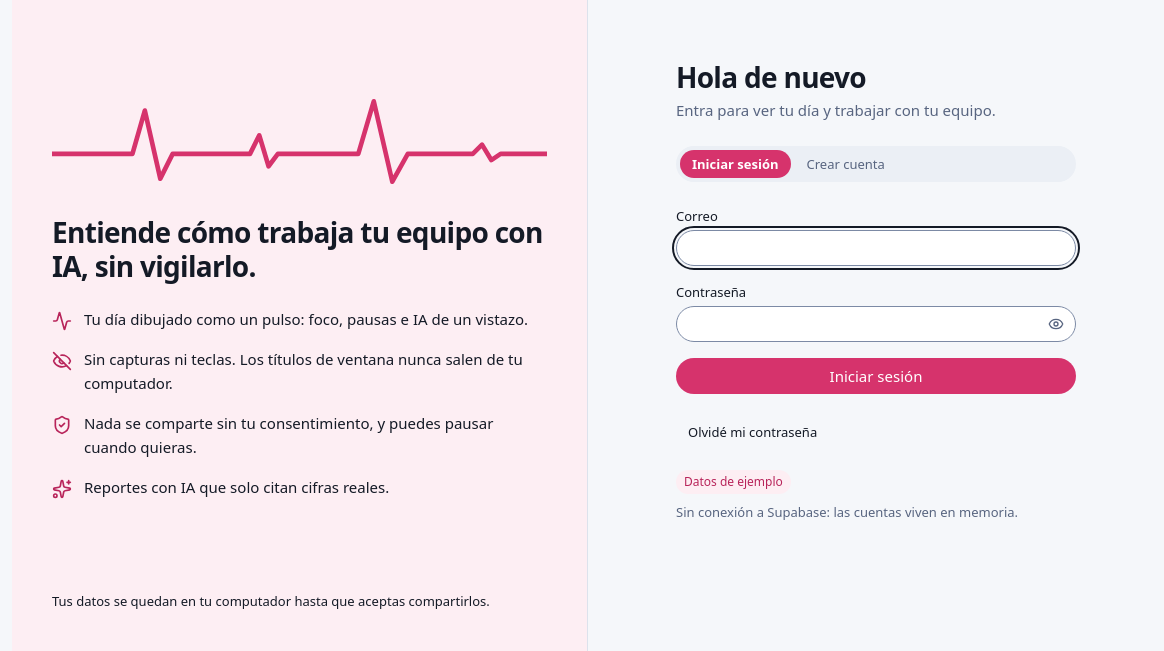
Test: Acceso (CU-01 a CU-03) › registra una cuenta y entra al instante, sin esperar un correo (AC-1, ADR-0008)
Click the radio button labelled "Crear cuenta" at x=846, y=164, box 794,150 -> 897,178
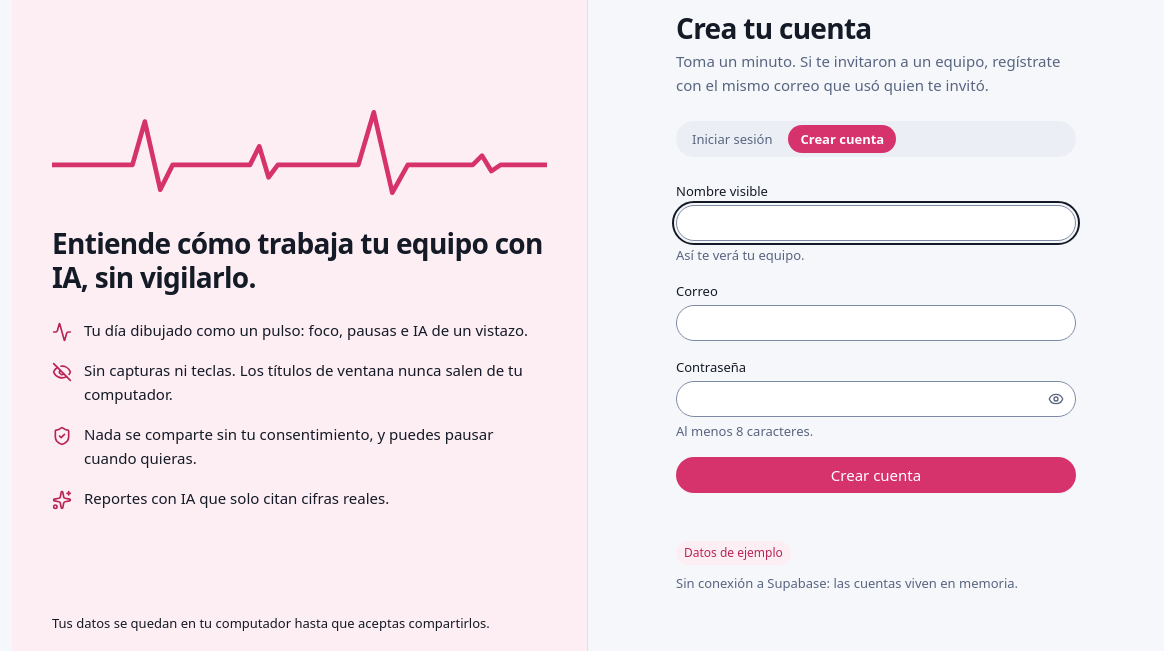
Type "Caro Díaz" into the field labelled "Nombre visible" at x=876, y=223, box 676,205 -> 1076,241
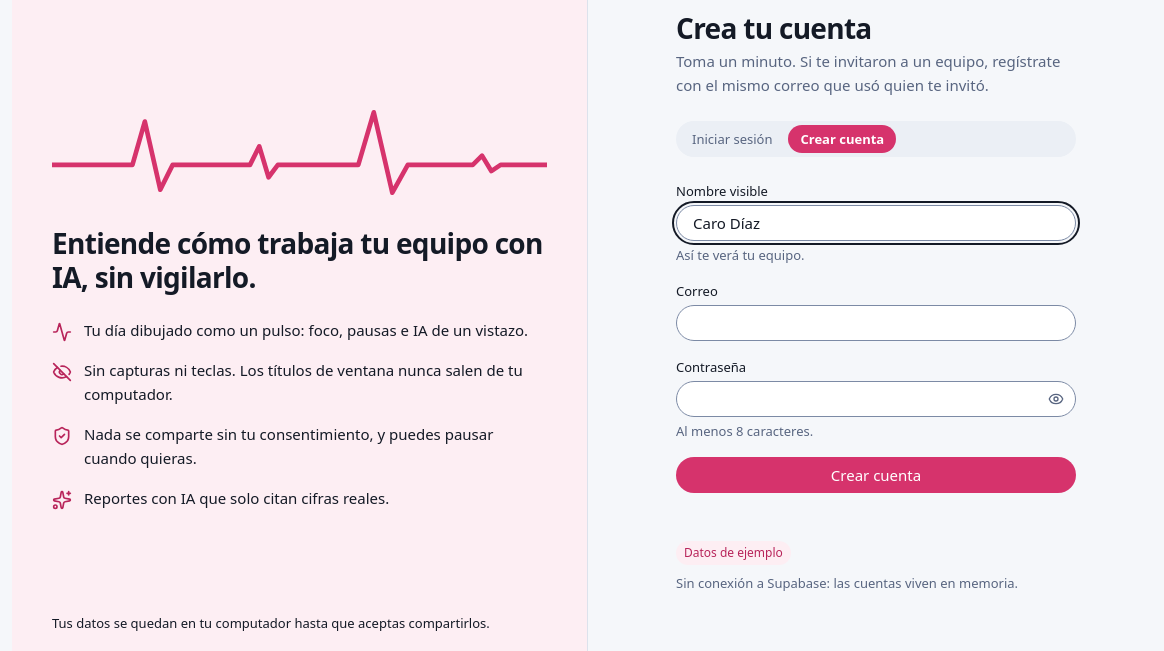
Type "caro@pulso.test" into the field labelled "Correo" at x=876, y=323, box 676,305 -> 1076,341
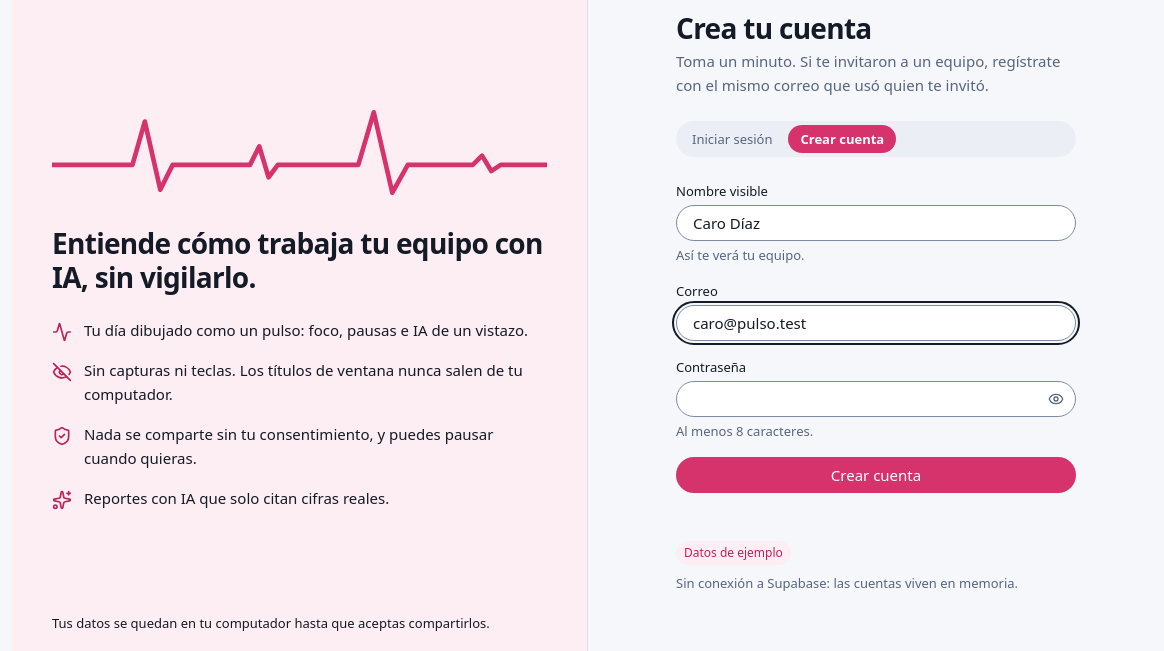
Type "secreto-123" into the password field labelled "Contraseña" at x=876, y=399, box 676,381 -> 1076,417
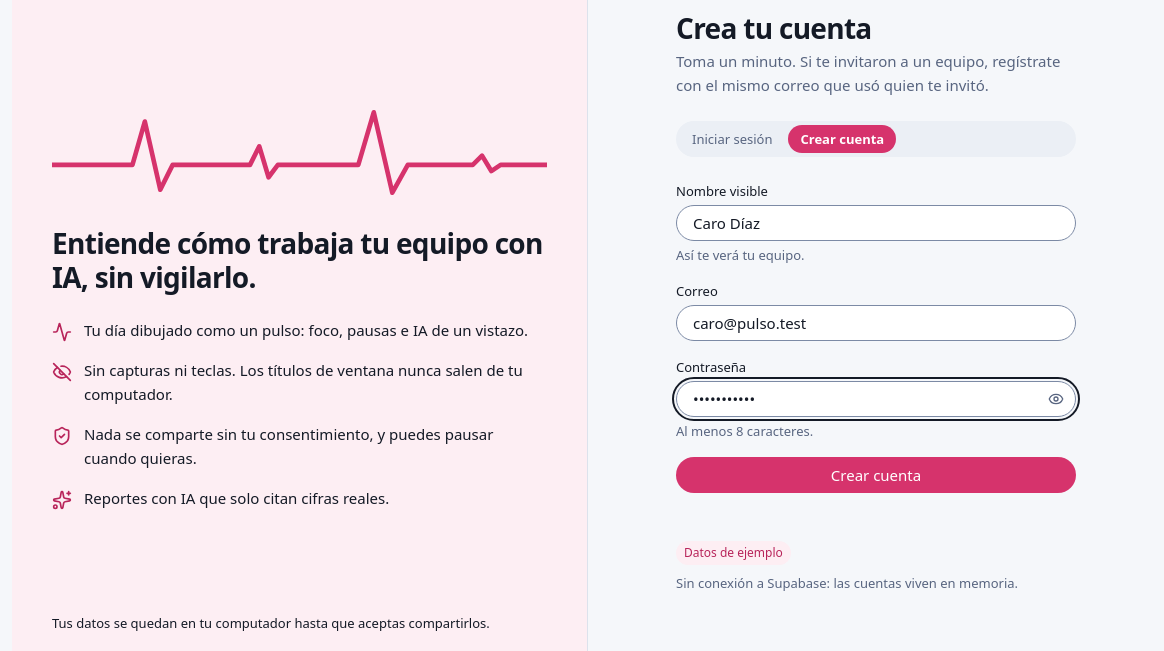
Click the button "Crear cuenta" at x=876, y=475, box 676,457 -> 1076,493
(page scrolled)
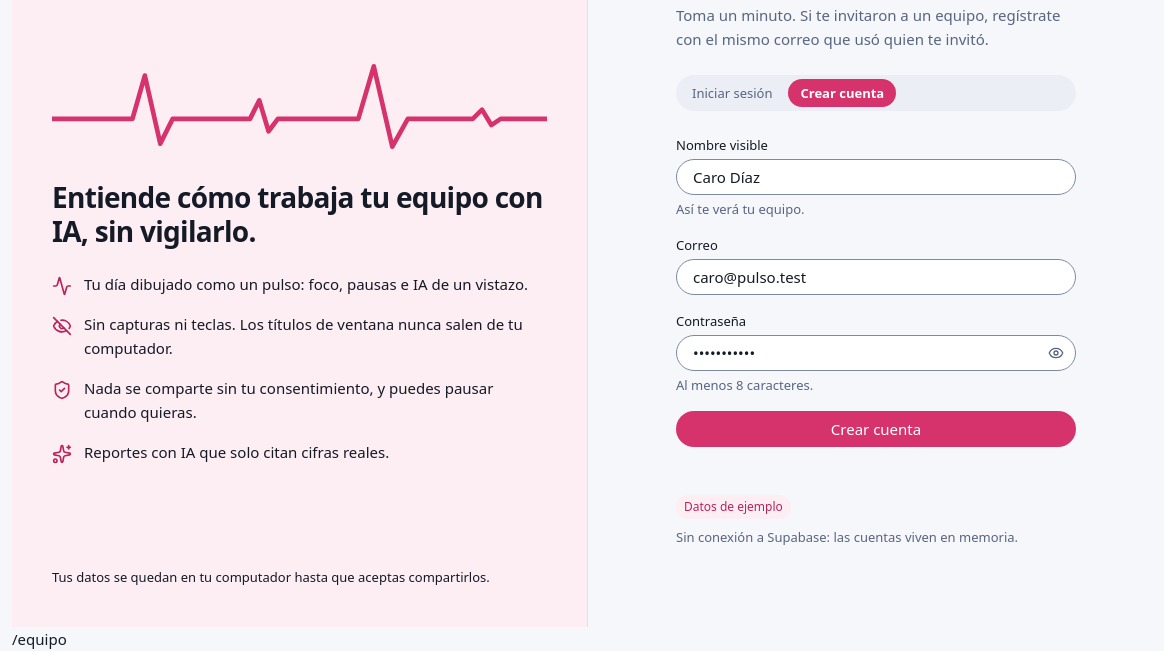
Expected: the text with test id "ruta" reads "/equipo", 12,629 -> 67,649
